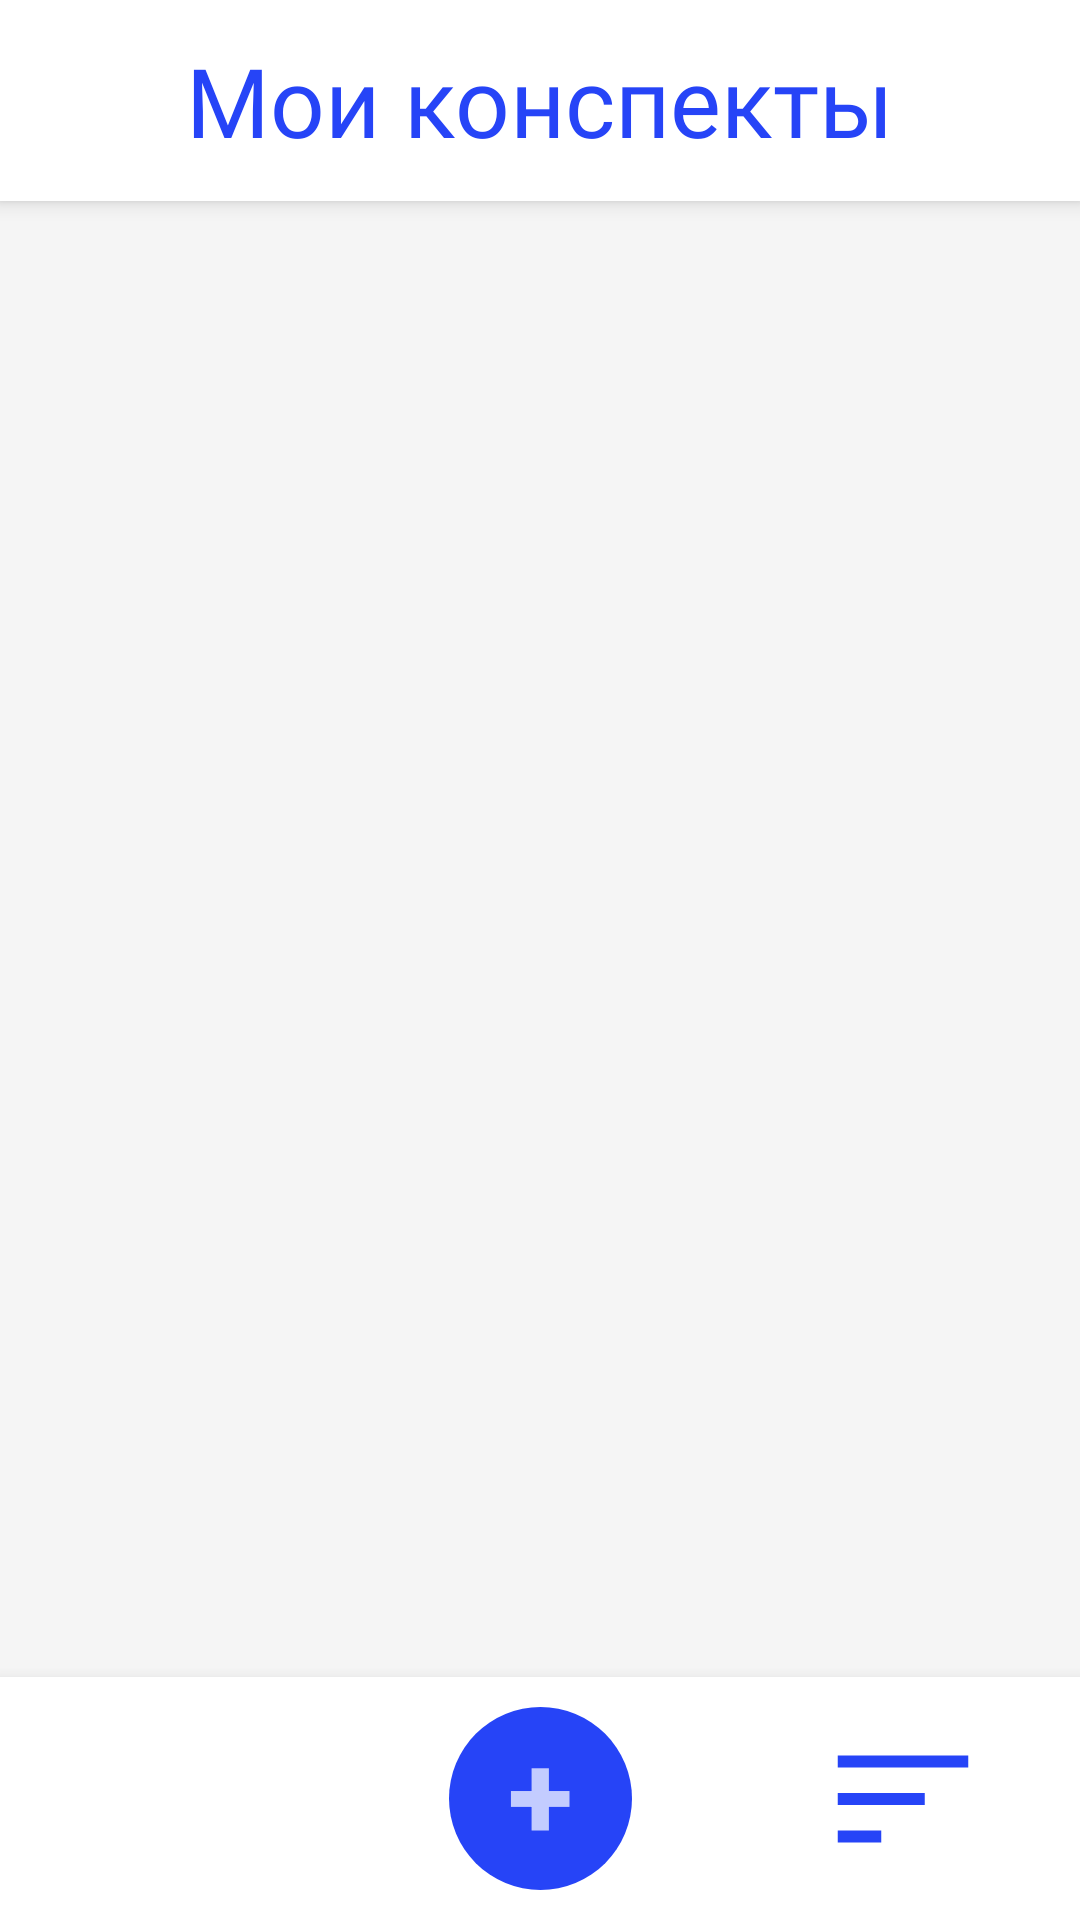

Named icons in this screenshot (1080px×1920px) and their centers, (x=x, y=y):
Сортировка: (x=903, y=1799)
